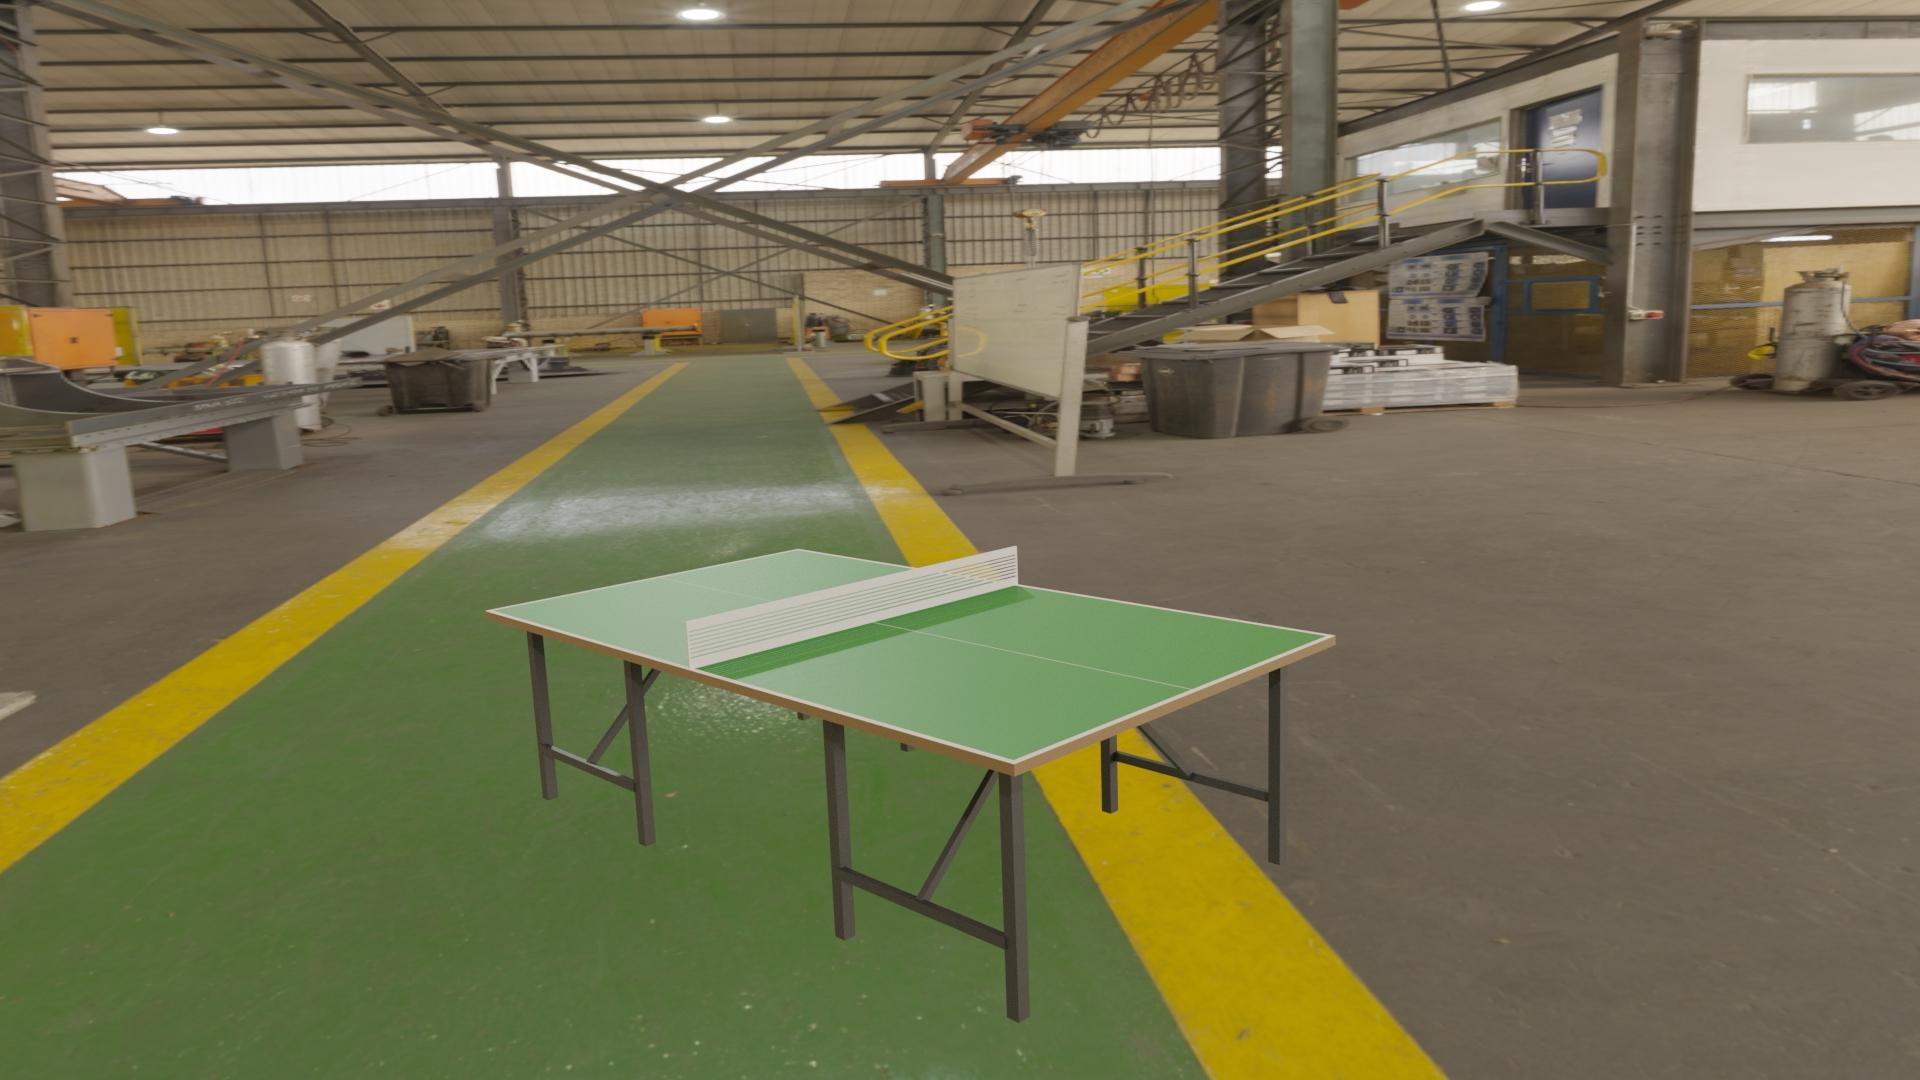table: (492, 550, 1327, 761)
